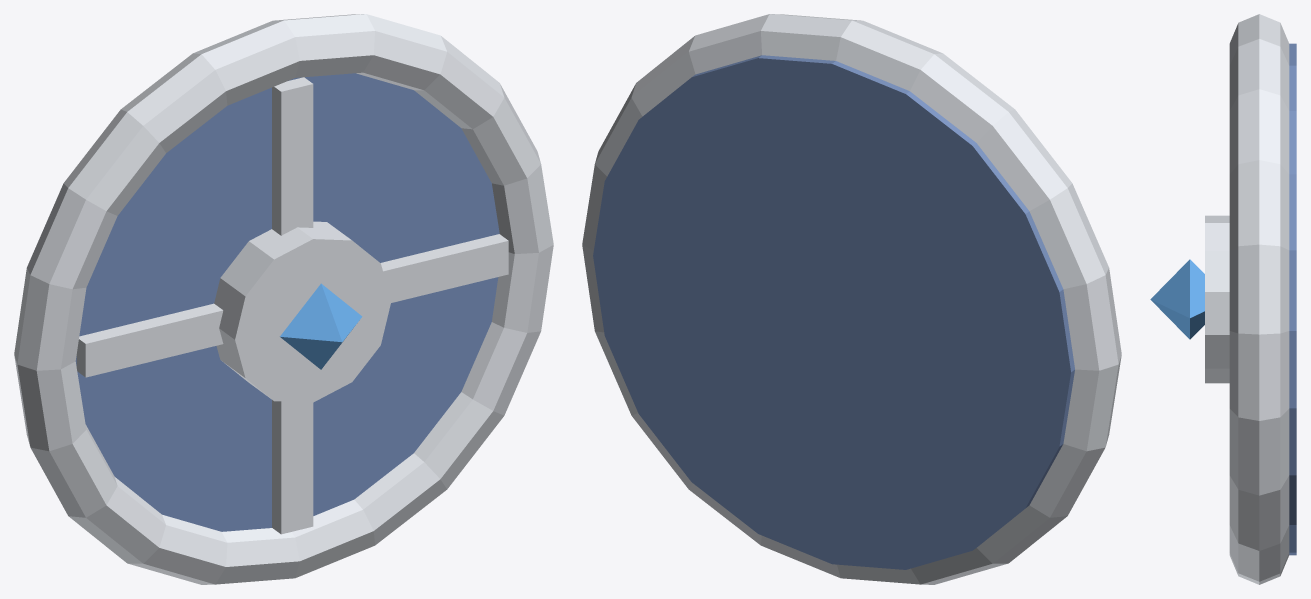
The model's file is shield-silver.glb.
3 renders of one model, left to right at view 1: azimuth 30°, elevation 25°; view 2: azimuth 150°, elevation 25°; view 3: azimuth 270°, elevation 25°, orthographic. The views are drawn at different scales.
Bounding box in the file's own units: 1.16 × 1.16 × 0.295.
